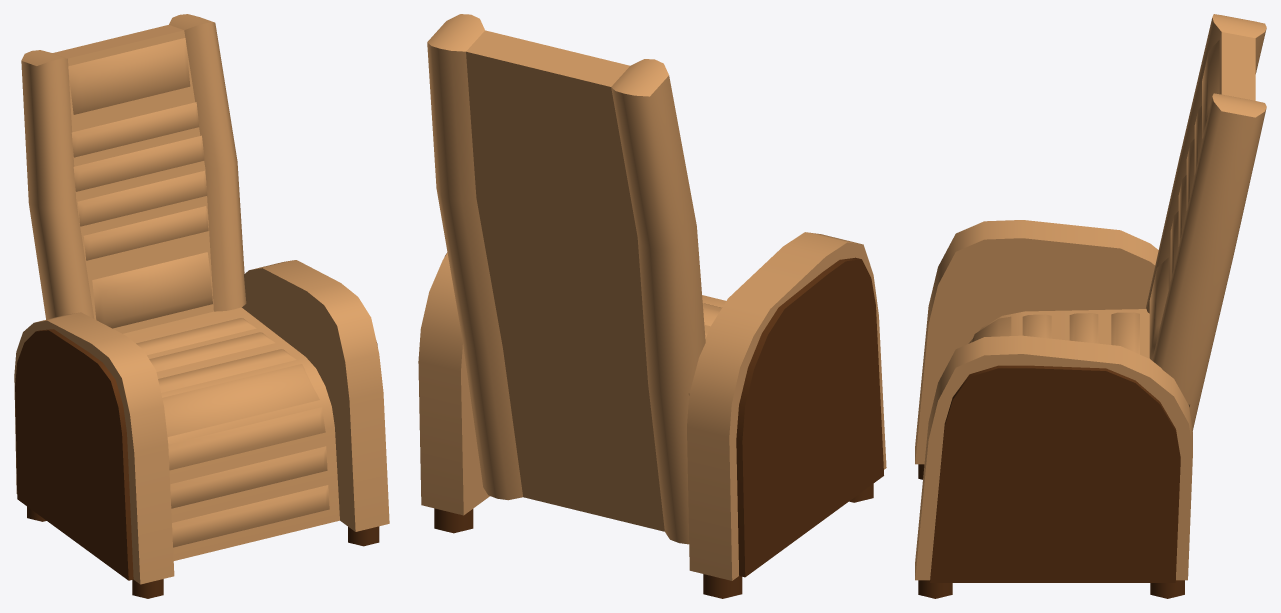
Rendered from Recliner.fbx.
The picture shows the model from 3 angles, left to right: view 1: azimuth 30°, elevation 25°; view 2: azimuth 150°, elevation 25°; view 3: azimuth 270°, elevation 25°; orthographic projection. The views are drawn at different scales.
Parts seen in each view (by area): view 1: Recliner; view 2: Recliner; view 3: Recliner.
Boxes of the visible parts, x1,y1,x2,y2 form: Recliner: (14,14,389,598); Recliner: (418,14,886,598); Recliner: (915,14,1266,598).
Bounding box in the file's own units: 224 × 357 × 239.
